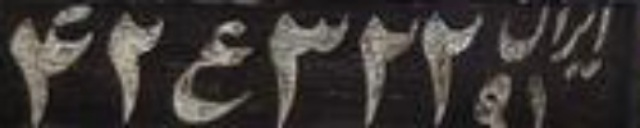1: (521, 70, 556, 127)
2: (357, 13, 418, 126), (422, 9, 480, 125), (105, 13, 163, 123)
3: (269, 12, 342, 126)
4: (7, 5, 94, 126)
9: (471, 71, 516, 127)
ain: (172, 19, 254, 125)
